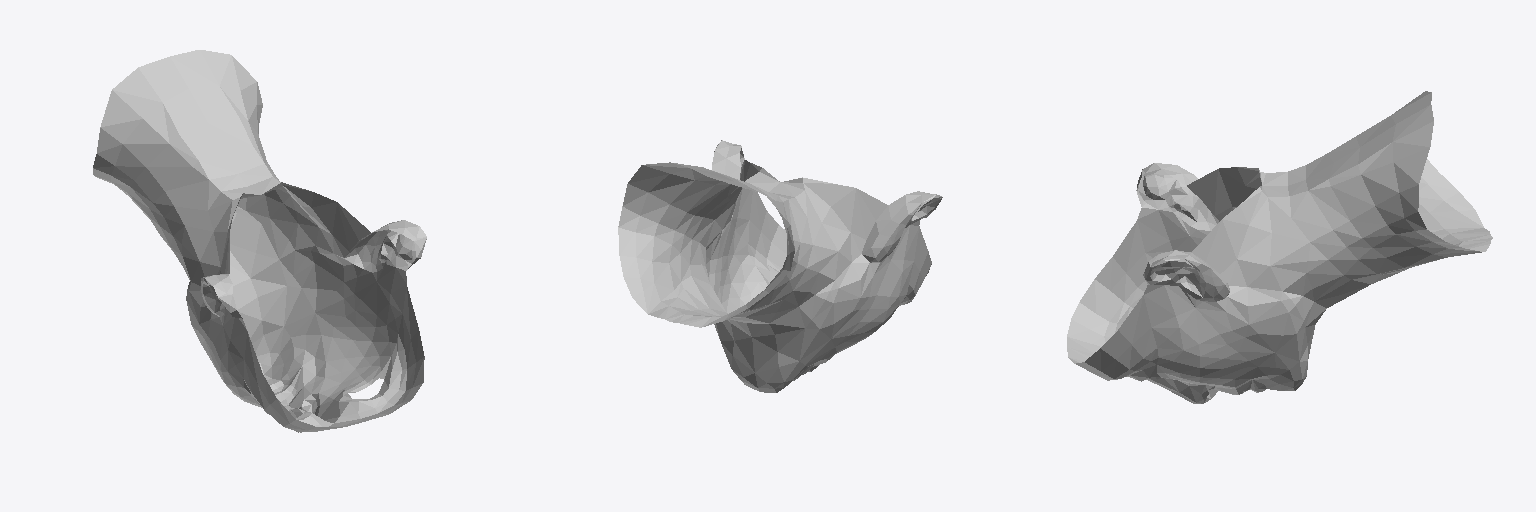
The model's file is nface.obj.
3 renders of one model, left to right at view 1: azimuth 30°, elevation 25°; view 2: azimuth 150°, elevation 25°; view 3: azimuth 270°, elevation 25°, orthographic.
Visible parts, largest first — view 1: default 0----; view 2: default 0----; view 3: default 0----.
Part boxes in pixels (x1,y1,x2,y2): default 0----: (93, 50, 426, 432); default 0----: (618, 140, 942, 392); default 0----: (1067, 91, 1492, 403).
Size of the model in its own units: 5.14 by 6.76 by 8.9.